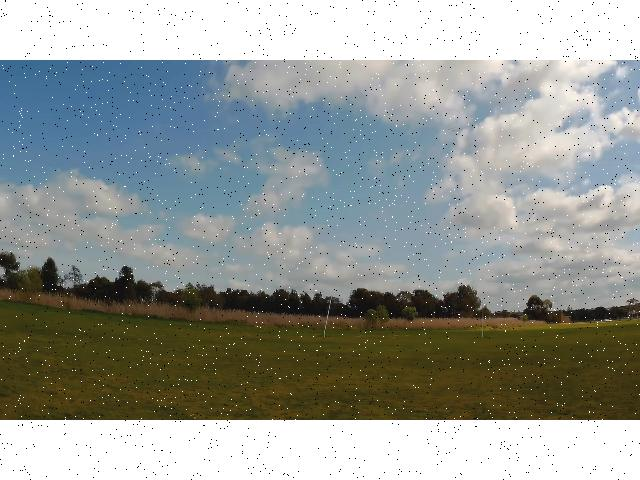Anti-Drone: (440, 119, 472, 140)
